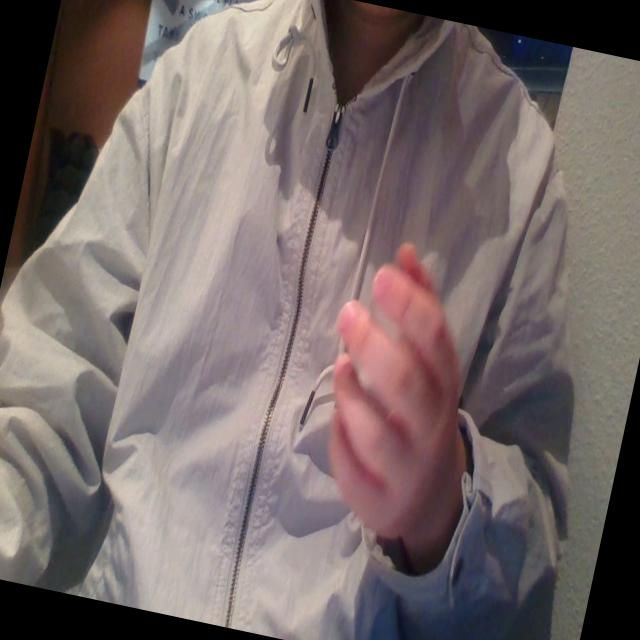hand: (287, 230, 506, 556)
